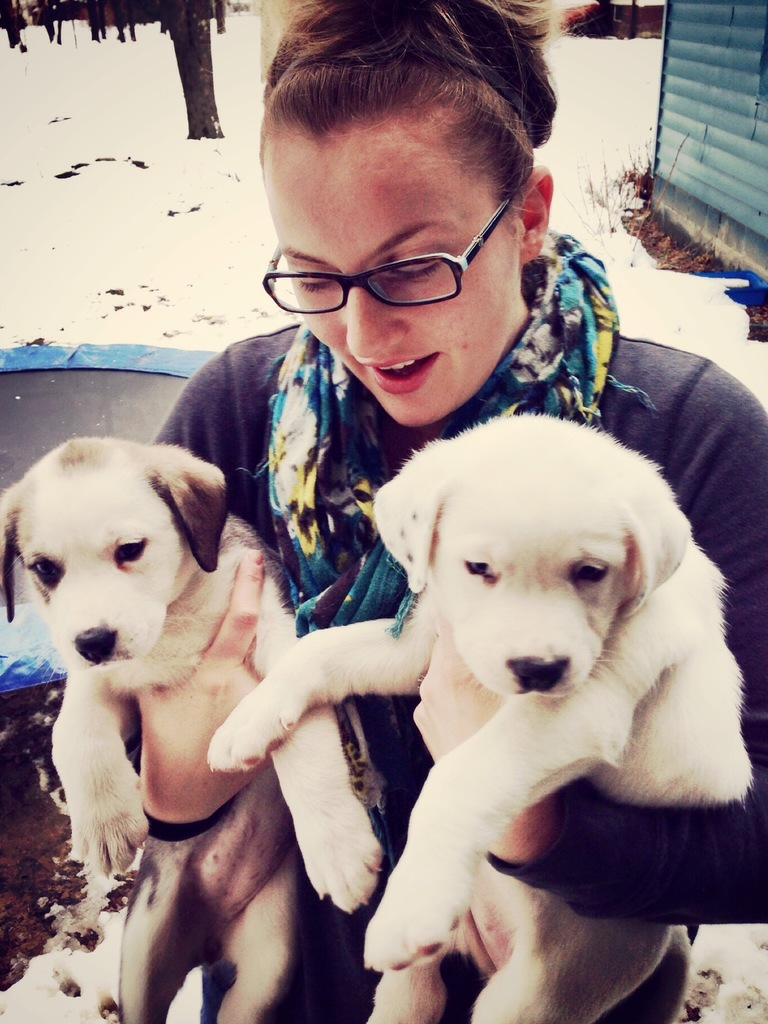Human_hand: (137, 547, 270, 819), (411, 606, 549, 859)
